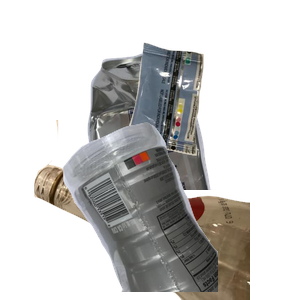glass: (31, 120, 271, 300)
metal: (85, 48, 300, 228)
plastic: (60, 120, 300, 300)
trash: (124, 40, 300, 188)
